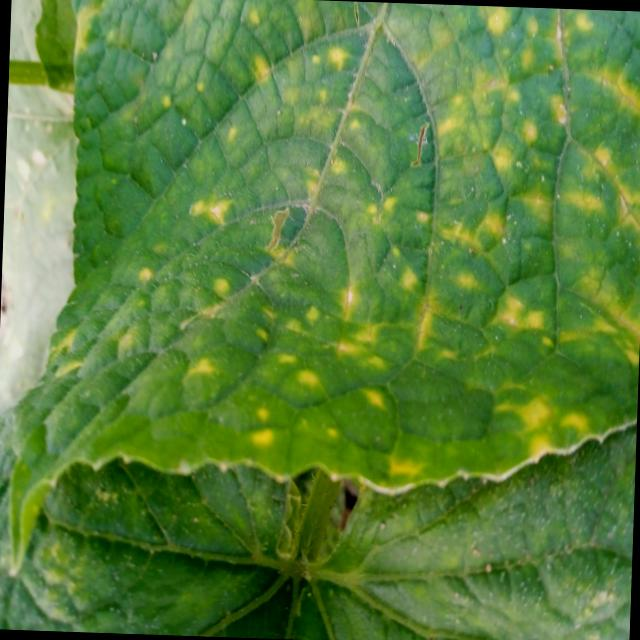cucumber_downy: (40, 0, 640, 494)
